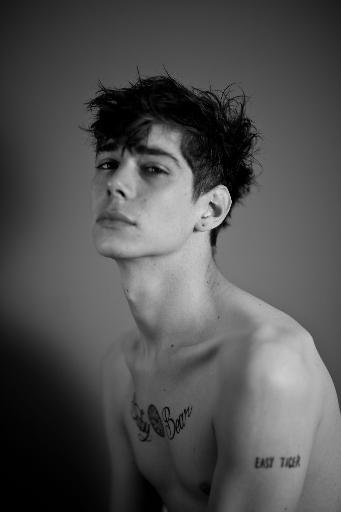left_eye: (140, 163, 172, 183)
left_lip_corner: (130, 218, 143, 234)
right_eye: (97, 159, 120, 175)
right_lip_corner: (93, 212, 105, 233)
